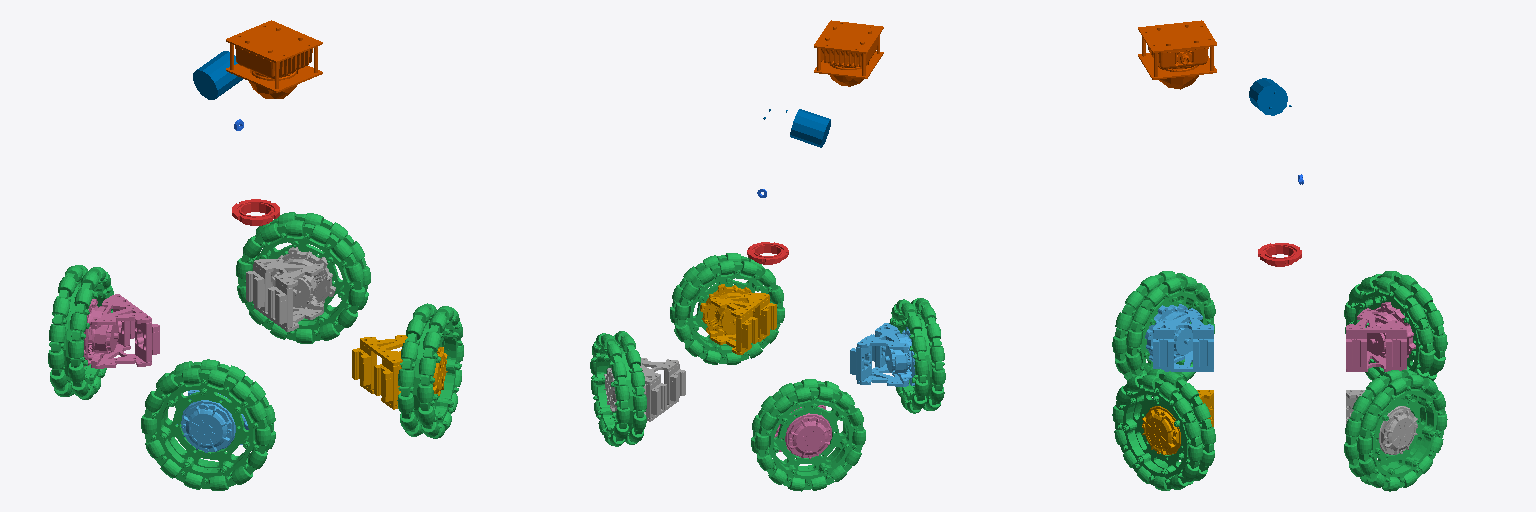
robot.urdf — generated_robot:
<?xml version="1.0"?>
<robot name="generated_robot">
  <material name="yaw_red">
    <color rgba="0.9 0.25 0.25 1.0"/>
  </material>
  <material name="pitch_blue">
    <color rgba="0.2 0.5 1.0 1.0"/>
  </material>
  <material name="wheel_green">
    <color rgba="0.2 0.75 0.4 1.0"/>
  </material>
  <link name="base_footprint"/>
  <link name="base_link">
    <inertial>
      <origin xyz="-3.4e-7 -1.2e-7 0.04642099" rpy="0 0 0"/>
      <mass value="4.43990188"/>
      <inertia ixx="0.11659852" ixy="0" ixz="0" iyy="0.11002631" iyz="0" izz="0.18862864"/>
    </inertial>
    <visual name="part_004_visual_1">
      <origin xyz="0 0 0" rpy="1.57079633 0 0"/>
      <geometry><mesh filename="meshes/part_004_NAUO4.stl" scale="0.001 0.001 0.001"/></geometry>
    </visual>
    <collision name="part_004_collision_1">
      <origin xyz="0 0 0" rpy="1.57079633 0 0"/>
      <geometry><mesh filename="meshes/part_004_NAUO4.stl" scale="0.001 0.001 0.001"/></geometry>
    </collision>
  </link>
  <link name="yaw_link">
    <inertial>
      <origin xyz="0.02356775 -0.05792194 0.16556584" rpy="0 0 0"/>
      <mass value="1.13031543"/>
      <inertia ixx="0.01443808" ixy="0.00001493" ixz="-0.00004119" iyy="0.01588943" iyz="0.00010123" izz="0.01122883"/>
    </inertial>
    <visual name="part_013_visual_1">
      <origin xyz="0.00006496 3e-8 -0.1335" rpy="1.57079633 0 0"/>
      <geometry><mesh filename="meshes/part_013_NAUO13.stl" scale="0.001 0.001 0.001"/></geometry>
      <material name="yaw_red"/>
    </visual>
    <collision name="part_013_collision_1">
      <origin xyz="0.00006496 3e-8 -0.1335" rpy="1.57079633 0 0"/>
      <geometry><mesh filename="meshes/part_013_NAUO13.stl" scale="0.001 0.001 0.001"/></geometry>
    </collision>
    <visual name="part_003_visual_2">
      <origin xyz="0.00006496 3e-8 -0.1335" rpy="1.57079633 0 0"/>
      <geometry><mesh filename="meshes/part_003_NAUO3.stl" scale="0.001 0.001 0.001"/></geometry>
      <material name="yaw_red"/>
    </visual>
    <collision name="part_003_collision_2">
      <origin xyz="0.00006496 3e-8 -0.1335" rpy="1.57079633 0 0"/>
      <geometry><mesh filename="meshes/part_003_NAUO3.stl" scale="0.001 0.001 0.001"/></geometry>
    </collision>
  </link>
  <link name="pitch_link">
    <inertial>
      <origin xyz="-0.03381723 -0.00221963 0.04107461" rpy="0 0 0"/>
      <mass value="1.14451026"/>
      <inertia ixx="0.00764978" ixy="-6e-8" ixz="5.7e-7" iyy="0.01233271" iyz="7e-8" izz="0.01252122"/>
    </inertial>
    <visual name="part_001_visual_1">
      <origin xyz="0.00620338 -0.02392506 -0.24114277" rpy="1.57079633 0 0"/>
      <geometry><mesh filename="meshes/part_001_NAUO1.stl" scale="0.001 0.001 0.001"/></geometry>
      <material name="pitch_blue"/>
    </visual>
    <collision name="part_001_collision_1">
      <origin xyz="0.00620338 -0.02392506 -0.24114277" rpy="1.57079633 0 0"/>
      <geometry><mesh filename="meshes/part_001_NAUO1.stl" scale="0.001 0.001 0.001"/></geometry>
    </collision>
    <visual name="part_002_visual_2">
      <origin xyz="0.00620338 -0.02392506 -0.24114277" rpy="1.57079633 0 0"/>
      <geometry><mesh filename="meshes/part_002_NAUO2.stl" scale="0.001 0.001 0.001"/></geometry>
      <material name="pitch_blue"/>
    </visual>
    <collision name="part_002_collision_2">
      <origin xyz="0.00620338 -0.02392506 -0.24114277" rpy="1.57079633 0 0"/>
      <geometry><mesh filename="meshes/part_002_NAUO2.stl" scale="0.001 0.001 0.001"/></geometry>
    </collision>
  </link>
  <link name="camera_link">
    <inertial>
      <origin xyz="-0.03931159 -0.0123547 0.33155005" rpy="0 0 0"/>
      <mass value="0.06340288"/>
      <inertia ixx="0.00002791" ixy="0" ixz="0" iyy="0.00005549" iyz="0" izz="0.00005798"/>
    </inertial>
    <visual name="part_014_visual_1">
      <origin xyz="0 0 0" rpy="1.57079633 0 0"/>
      <geometry><mesh filename="meshes/part_014_NAUO14.stl" scale="0.001 0.001 0.001"/></geometry>
    </visual>
    <collision name="part_014_collision_1">
      <origin xyz="0 0 0" rpy="1.57079633 0 0"/>
      <geometry><mesh filename="meshes/part_014_NAUO14.stl" scale="0.001 0.001 0.001"/></geometry>
    </collision>
  </link>
  <link name="lidar_link">
    <inertial>
      <origin xyz="-0.04917722 -0.12748498 0.38629873" rpy="0 0 0"/>
      <mass value="0.20647793"/>
      <inertia ixx="0.0001831" ixy="0" ixz="-6e-8" iyy="0.00018227" iyz="0" izz="0.00022845"/>
    </inertial>
    <visual name="part_016_visual_1">
      <origin xyz="0 0 0" rpy="1.57079633 0 0"/>
      <geometry><mesh filename="meshes/part_016_surface_shells_001.stl" scale="0.001 0.001 0.001"/></geometry>
    </visual>
    <collision name="part_016_collision_1">
      <origin xyz="0 0 0" rpy="1.57079633 0 0"/>
      <geometry><mesh filename="meshes/part_016_surface_shells_001.stl" scale="0.001 0.001 0.001"/></geometry>
    </collision>
    <visual name="part_015_visual_2">
      <origin xyz="0 0 0" rpy="1.57079633 0 0"/>
      <geometry><mesh filename="meshes/part_015_NAUO15.stl" scale="0.001 0.001 0.001"/></geometry>
    </visual>
    <collision name="part_015_collision_2">
      <origin xyz="0 0 0" rpy="1.57079633 0 0"/>
      <geometry><mesh filename="meshes/part_015_NAUO15.stl" scale="0.001 0.001 0.001"/></geometry>
    </collision>
  </link>
  <link name="FL_hanging">
    <inertial>
      <origin xyz="-0.04526541 0.02599572 0.01735" rpy="0 0 0"/>
      <mass value="0.20130538"/>
      <inertia ixx="0.00024349" ixy="0" ixz="0" iyy="0.00025769" iyz="0" izz="0.00029199"/>
    </inertial>
    <visual name="part_007_visual_1">
      <origin xyz="0.0805 -0.10119 0.05" rpy="1.57079633 0 0"/>
      <geometry><mesh filename="meshes/part_007_NAUO7.stl" scale="0.001 0.001 0.001"/></geometry>
    </visual>
    <collision name="part_007_collision_1">
      <origin xyz="0.0805 -0.10119 0.05" rpy="1.57079633 0 0"/>
      <geometry><mesh filename="meshes/part_007_NAUO7.stl" scale="0.001 0.001 0.001"/></geometry>
    </collision>
  </link>
  <link name="FR_hanging">
    <inertial>
      <origin xyz="0.04526541 0.02599572 -0.01735" rpy="0 0 0"/>
      <mass value="0.20130537"/>
      <inertia ixx="0.00024349" ixy="0" ixz="0" iyy="0.00025769" iyz="0" izz="0.00029199"/>
    </inertial>
    <visual name="part_005_visual_1">
      <origin xyz="-0.0805 -0.10119 0.0153" rpy="1.57079633 0 0"/>
      <geometry><mesh filename="meshes/part_005_NAUO5.stl" scale="0.001 0.001 0.001"/></geometry>
    </visual>
    <collision name="part_005_collision_1">
      <origin xyz="-0.0805 -0.10119 0.0153" rpy="1.57079633 0 0"/>
      <geometry><mesh filename="meshes/part_005_NAUO5.stl" scale="0.001 0.001 0.001"/></geometry>
    </collision>
  </link>
  <link name="BR_hanging">
    <inertial>
      <origin xyz="0.04026541 -0.03199572 -0.01235" rpy="0 0 0"/>
      <mass value="0.20130538"/>
      <inertia ixx="0.00024349" ixy="0" ixz="0" iyy="0.00025769" iyz="0" izz="0.00029199"/>
    </inertial>
    <visual name="part_006_visual_1">
      <origin xyz="-0.0855 0.09519 0.0203" rpy="1.57079633 0 0"/>
      <geometry><mesh filename="meshes/part_006_NAUO6.stl" scale="0.001 0.001 0.001"/></geometry>
    </visual>
    <collision name="part_006_collision_1">
      <origin xyz="-0.0855 0.09519 0.0203" rpy="1.57079633 0 0"/>
      <geometry><mesh filename="meshes/part_006_NAUO6.stl" scale="0.001 0.001 0.001"/></geometry>
    </collision>
  </link>
  <link name="BL_hanging">
    <inertial>
      <origin xyz="-0.04526541 -0.02599572 -0.01735" rpy="0 0 0"/>
      <mass value="0.20130537"/>
      <inertia ixx="0.00024349" ixy="0" ixz="0" iyy="0.00025769" iyz="0" izz="0.00029199"/>
    </inertial>
    <visual name="part_008_visual_1">
      <origin xyz="0.0805 0.10119 0.0153" rpy="1.57079633 0 0"/>
      <geometry><mesh filename="meshes/part_008_NAUO8.stl" scale="0.001 0.001 0.001"/></geometry>
    </visual>
    <collision name="part_008_collision_1">
      <origin xyz="0.0805 0.10119 0.0153" rpy="1.57079633 0 0"/>
      <geometry><mesh filename="meshes/part_008_NAUO8.stl" scale="0.001 0.001 0.001"/></geometry>
    </collision>
  </link>
  <link name="BL">
    <inertial>
      <origin xyz="-0.00240029 -0.00240029 0" rpy="0 0 0"/>
      <mass value="0.29860949"/>
      <inertia ixx="0.00098761" ixy="0" ixz="0" iyy="0.00098761" iyz="0" izz="0.00082457"/>
    </inertial>
    <visual name="part_011_visual_1">
      <origin xyz="0.14300592 0.14219592 0.03265" rpy="1.57079633 0 0"/>
      <geometry><mesh filename="meshes/part_011_NAUO11.stl" scale="0.001 0.001 0.001"/></geometry>
      <material name="wheel_green"/>
    </visual>
    <collision name="part_011_collision_1">
      <origin xyz="0.14300592 0.14219592 0.03265" rpy="1.57079633 0 0"/>
      <geometry><mesh filename="meshes/part_011_NAUO11.stl" scale="0.001 0.001 0.001"/></geometry>
    </collision>
  </link>
  <link name="BR">
    <inertial>
      <origin xyz="0.00228296 -0.00228296 0" rpy="0 0 0"/>
      <mass value="0.29860948"/>
      <inertia ixx="0.00098891" ixy="0" ixz="0" iyy="0.00098891" iyz="0" izz="0.00082747"/>
    </inertial>
    <visual name="part_009_visual_1">
      <origin xyz="-0.14300592 0.14219592 0.03265" rpy="1.57079633 0 0"/>
      <geometry><mesh filename="meshes/part_009_NAUO9.stl" scale="0.001 0.001 0.001"/></geometry>
      <material name="wheel_green"/>
    </visual>
    <collision name="part_009_collision_1">
      <origin xyz="-0.14300592 0.14219592 0.03265" rpy="1.57079633 0 0"/>
      <geometry><mesh filename="meshes/part_009_NAUO9.stl" scale="0.001 0.001 0.001"/></geometry>
    </collision>
  </link>
  <link name="FR">
    <inertial>
      <origin xyz="0.00220645 0.00220646 0" rpy="0 0 0"/>
      <mass value="0.29860948"/>
      <inertia ixx="0.00098852" ixy="0" ixz="0" iyy="0.00098852" iyz="0" izz="0.00082844"/>
    </inertial>
    <visual name="part_010_visual_1">
      <origin xyz="-0.14300592 -0.14219592 0.03265" rpy="1.57079633 0 0"/>
      <geometry><mesh filename="meshes/part_010_NAUO10.stl" scale="0.001 0.001 0.001"/></geometry>
      <material name="wheel_green"/>
    </visual>
    <collision name="part_010_collision_1">
      <origin xyz="-0.14300592 -0.14219592 0.03265" rpy="1.57079633 0 0"/>
      <geometry><mesh filename="meshes/part_010_NAUO10.stl" scale="0.001 0.001 0.001"/></geometry>
    </collision>
  </link>
  <link name="FL">
    <inertial>
      <origin xyz="-0.00227498 0.00227498 0" rpy="0 0 0"/>
      <mass value="0.29860949"/>
      <inertia ixx="0.0009889" ixy="0" ixz="0" iyy="0.0009889" iyz="0" izz="0.0008276"/>
    </inertial>
    <visual name="part_012_visual_1">
      <origin xyz="0.14300592 -0.14219592 0.03265" rpy="1.57079633 0 0"/>
      <geometry><mesh filename="meshes/part_012_NAUO12.stl" scale="0.001 0.001 0.001"/></geometry>
      <material name="wheel_green"/>
    </visual>
    <collision name="part_012_collision_1">
      <origin xyz="0.14300592 -0.14219592 0.03265" rpy="1.57079633 0 0"/>
      <geometry><mesh filename="meshes/part_012_NAUO12.stl" scale="0.001 0.001 0.001"/></geometry>
    </collision>
  </link>
  <joint name="base_joint" type="continuous">
    <parent link="base_footprint" />       
    <child link="base_link" />
    <origin xyz="-0.00006496 -3e-8 0" rpy="0 0 0" />
    <axis xyz="0 0 1" />              <!-- 绕 Z 轴旋转，和 yaw_joint 同一方向 -->
    <limit effort="10" velocity="5" />
  </joint>
  <joint name="yaw_joint" type="continuous">
    <parent link="base_link"/>
    <child link="yaw_link"/>
    <origin xyz="-0.00006496 -3e-8 0.1335" rpy="0 0 0"/>
    <axis xyz="0 0 1"/>
    <limit effort="10" velocity="5"/>
  </joint>
  <joint name="pitch_joint" type="revolute">
    <parent link="yaw_link"/>
    <child link="pitch_link"/>
    <origin xyz="-0.00613843 0.0239251 0.10764277" rpy="0 0 0"/>
    <axis xyz="-0.24944857 0.96838805 0"/>
    <limit lower="-1.57" upper="1.57" effort="10" velocity="5"/>
  </joint>
  <joint name="camera_joint" type="fixed">
    <parent link="pitch_link"/>
    <child link="camera_link"/>
    <origin xyz="0.00620338 -0.02392506 -0.24114277" rpy="0 0 0"/>
  </joint>
  <joint name="lidar_joint" type="fixed">
    <parent link="yaw_link"/>
    <child link="lidar_link"/>
    <origin xyz="0.00006496 3e-8 -0.1335" rpy="0 0 0"/>
  </joint>
  <joint name="FL_hanging_joint" type="fixed">
    <parent link="base_link"/>
    <child link="FL_hanging"/>
    <origin xyz="-0.0805 0.10119 -0.05" rpy="0 0 0"/>
  </joint>
  <joint name="FR_hanging_joint" type="fixed">
    <parent link="base_link"/>
    <child link="FR_hanging"/>
    <origin xyz="0.0805 0.10119 -0.0153" rpy="0 0 0"/>
  </joint>
  <joint name="BR_hanging_joint" type="fixed">
    <parent link="base_link"/>
    <child link="BR_hanging"/>
    <origin xyz="0.0855 -0.09519 -0.0203" rpy="0 0 0"/>
  </joint>
  <joint name="BL_hanging_joint" type="fixed">
    <parent link="base_link"/>
    <child link="BL_hanging"/>
    <origin xyz="-0.0805 -0.10119 -0.0153" rpy="0 0 0"/>
  </joint>
  <joint name="BL_joint" type="continuous">
    <parent link="BL_hanging"/>
    <child link="BL"/>
    <origin xyz="-0.06250592 -0.04100592 -0.01735" rpy="0 0 0"/>
    <axis xyz="-0.70710678 -0.70710678 0"/>
    <limit effort="10" velocity="5"/>
  </joint>
  <joint name="BR_joint" type="continuous">
    <parent link="BR_hanging"/>
    <child link="BR"/>
    <origin xyz="0.05750592 -0.04700592 -0.01235" rpy="0 0 0"/>
    <axis xyz="0.70710678 -0.70710678 0"/>
    <limit effort="10" velocity="5"/>
  </joint>
  <joint name="FR_joint" type="continuous">
    <parent link="FR_hanging"/>
    <child link="FR"/>
    <origin xyz="0.06250592 0.04100592 -0.01735" rpy="0 0 0"/>
    <axis xyz="0.70710678 0.70710678 0"/>
    <limit effort="10" velocity="5"/>
  </joint>
  <joint name="FL_joint" type="continuous">
    <parent link="FL_hanging"/>
    <child link="FL"/>
    <origin xyz="-0.06250592 0.04100592 0.01735" rpy="0 0 0"/>
    <axis xyz="-0.70710678 0.70710678 0"/>
    <limit effort="10" velocity="5"/>
  </joint>
</robot>

--- What the picture shows (computed from the rendered views, not written in the file) ---
The picture shows the robot from 3 angles, left to right: view 1: azimuth 30°, elevation 25°; view 2: azimuth 150°, elevation 25°; view 3: azimuth 270°, elevation 25°; orthographic projection.
Robot: generated_robot — 14 links, 13 joints (1 revolute, 6 continuous, 6 fixed); root link base_footprint; default pose: all joints at 0.
Links seen in each view (by area): view 1: BL, FR, BR, FL, FR_hanging, lidar_link, FL_hanging, BR_hanging, BL_hanging, camera_link, yaw_link; view 2: FL, BR, FR, BL, BR_hanging, lidar_link, BL_hanging, FR_hanging, FL_hanging, camera_link, yaw_link; view 3: BR, FR, FL, BL, lidar_link, BL_hanging, FL_hanging, BR_hanging, FR_hanging, camera_link, yaw_link.
Boxes of the visible links, x1,y1,x2,y2 form: BL: [141, 359, 275, 490]; FR: [236, 212, 370, 343]; BR: [397, 303, 463, 438]; FL: [48, 265, 113, 399]; FR_hanging: [246, 247, 335, 331]; lidar_link: [226, 20, 322, 98]; FL_hanging: [83, 294, 159, 368]; BR_hanging: [352, 335, 447, 409]; BL_hanging: [177, 390, 248, 452]; camera_link: [193, 51, 242, 99]; yaw_link: [232, 199, 279, 225]; FL: [751, 379, 865, 491]; BR: [670, 253, 784, 364]; FR: [590, 331, 646, 446]; BL: [889, 298, 945, 413]; BR_hanging: [700, 284, 776, 354]; lidar_link: [814, 20, 883, 86]; BL_hanging: [850, 323, 915, 386]; FR_hanging: [604, 358, 685, 421]; FL_hanging: [774, 405, 831, 458]; camera_link: [763, 109, 830, 147]; yaw_link: [747, 242, 788, 264]; BR: [1112, 369, 1215, 490]; FR: [1344, 369, 1447, 491]; FL: [1344, 271, 1447, 380]; BL: [1112, 271, 1215, 381]; lidar_link: [1138, 20, 1216, 89]; BL_hanging: [1145, 304, 1213, 371]; FL_hanging: [1346, 302, 1415, 371]; BR_hanging: [1142, 390, 1213, 454]; FR_hanging: [1346, 390, 1417, 454]; camera_link: [1249, 78, 1291, 115]; yaw_link: [1258, 243, 1301, 266].
Size in the robot's own frame: 0.4195 by 0.4179 by 0.5304 metres.
13 mesh visuals loaded from 16 distinct referenced files (13 binary STL); not drawn: 3 (reference not matched to a file when rendering).
